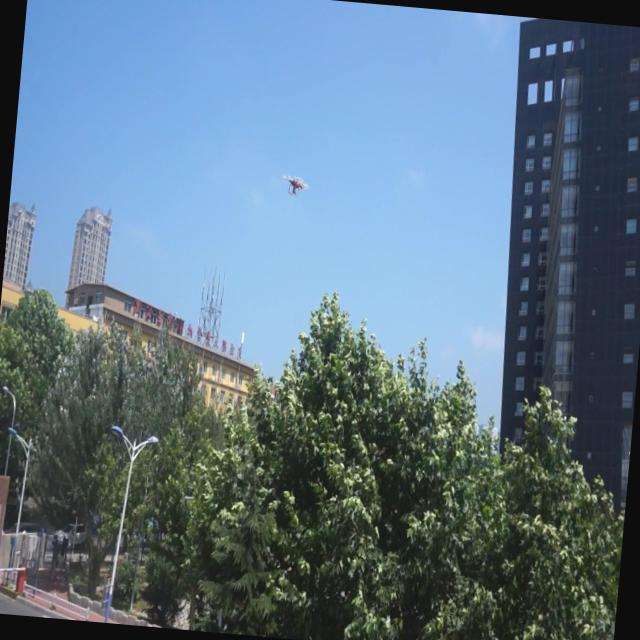drone: (280, 173, 310, 198)
